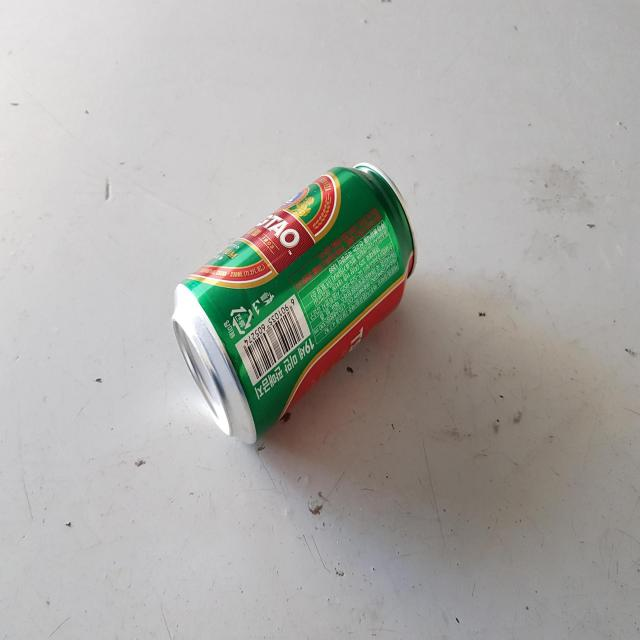can: (172, 162, 418, 443)
